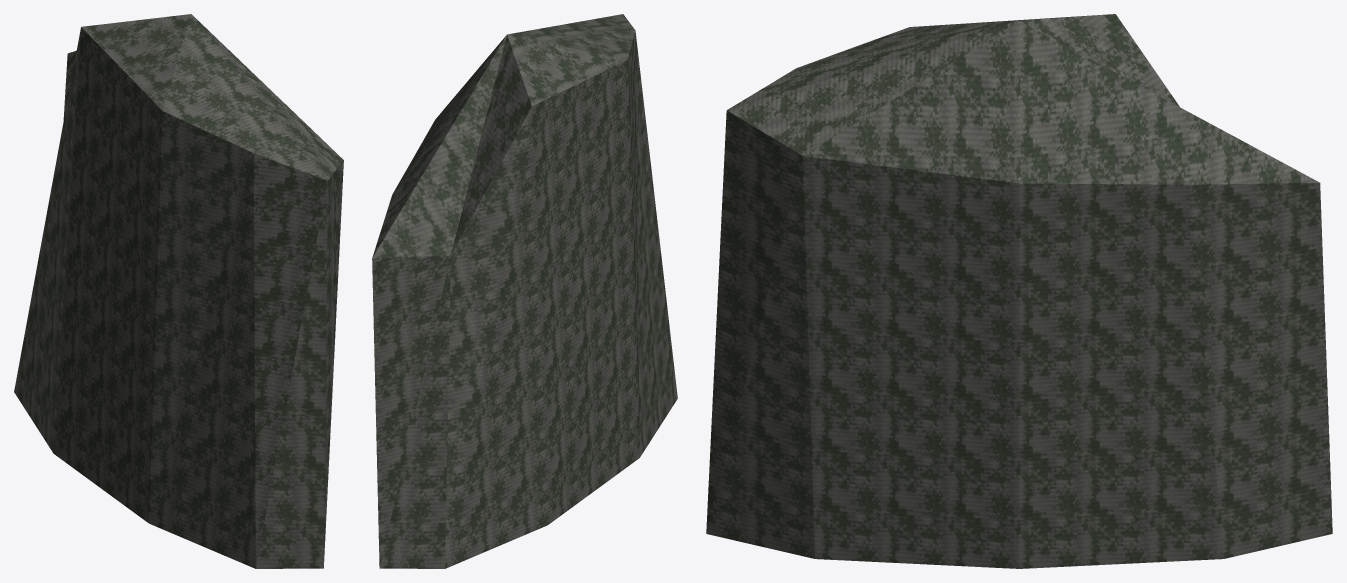
File: Cliff62346_LOD1.fbx
3 views of the same model, side by side, from view 1: azimuth 30°, elevation 25°; view 2: azimuth 150°, elevation 25°; view 3: azimuth 270°, elevation 25° (orthographic). The views are drawn at different scales.
Parts seen in each view (by area): view 1: Cliff62346_LOD1; view 2: Cliff62346_LOD1; view 3: Cliff62346_LOD1.
Boxes of the visible parts, left/top/right/bottom form: Cliff62346_LOD1: left=14, top=14, right=343, bottom=568; Cliff62346_LOD1: left=372, top=14, right=677, bottom=568; Cliff62346_LOD1: left=706, top=14, right=1332, bottom=568.
Size of the model in its own units: 1293 by 3400 by 3742.
Materials: 1 (1 with a texture image).
